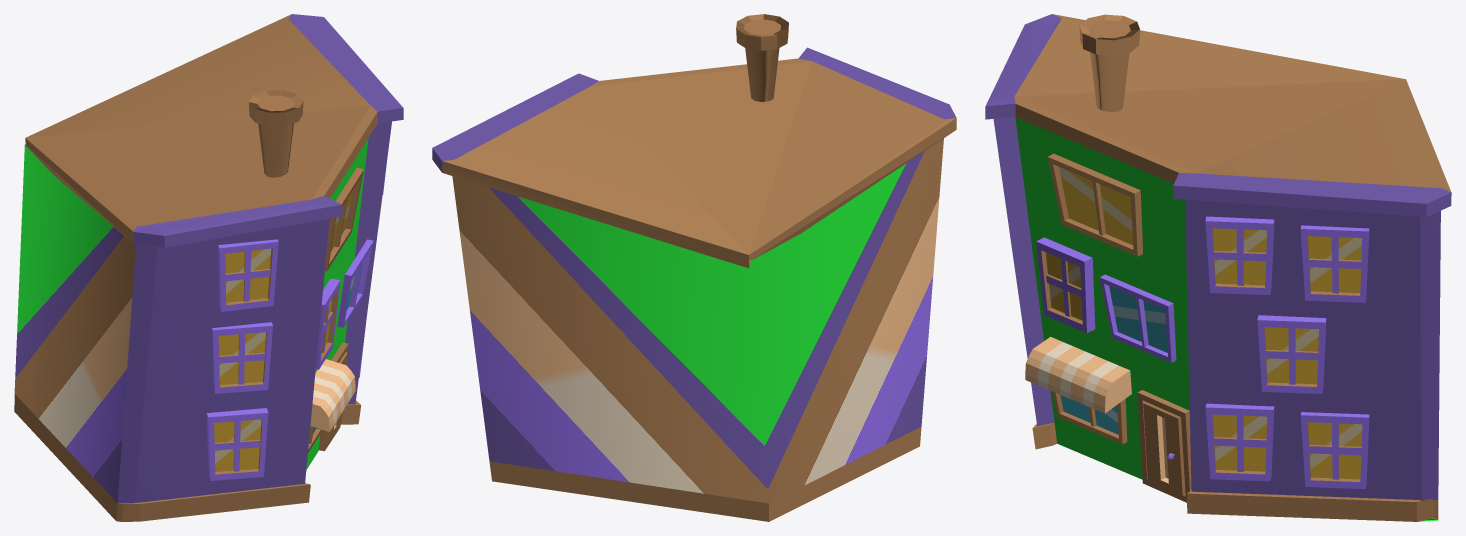
File: House9.FBX
3 views of the same model, side by side, from view 1: azimuth 30°, elevation 25°; view 2: azimuth 150°, elevation 25°; view 3: azimuth 270°, elevation 25° (orthographic). The views are drawn at different scales.
Parts seen in each view (by area): view 1: Object001; view 2: Object001; view 3: Object001.
Part boxes in pixels (box(x1,y1,x2,y2)): Object001: box(14, 14, 403, 521); Object001: box(432, 14, 956, 521); Object001: box(985, 14, 1451, 521).
Bounding box in the file's own units: 339 × 342 × 346.
